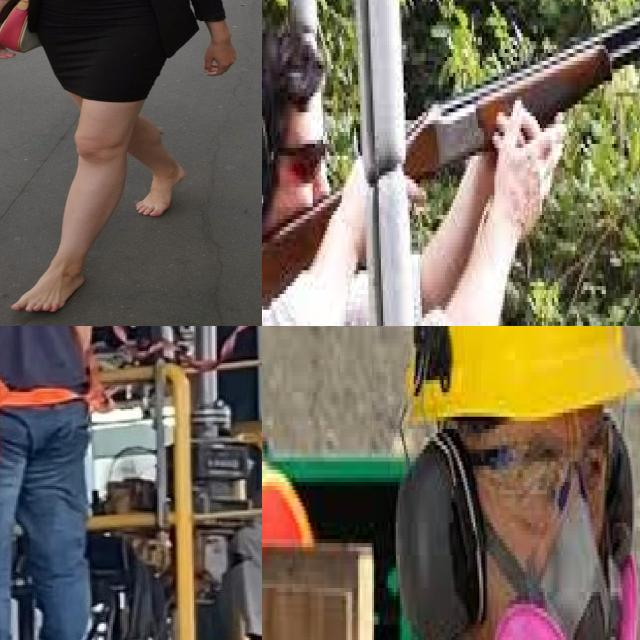Barefoots: (11, 267, 84, 312), (135, 164, 186, 217)
Ear-protection: (390, 433, 485, 637), (596, 408, 640, 567), (262, 104, 273, 222)
Harness: (0, 326, 94, 481)
glasses: (476, 433, 612, 523), (272, 132, 327, 180)
head_helmet: (397, 326, 640, 425)
